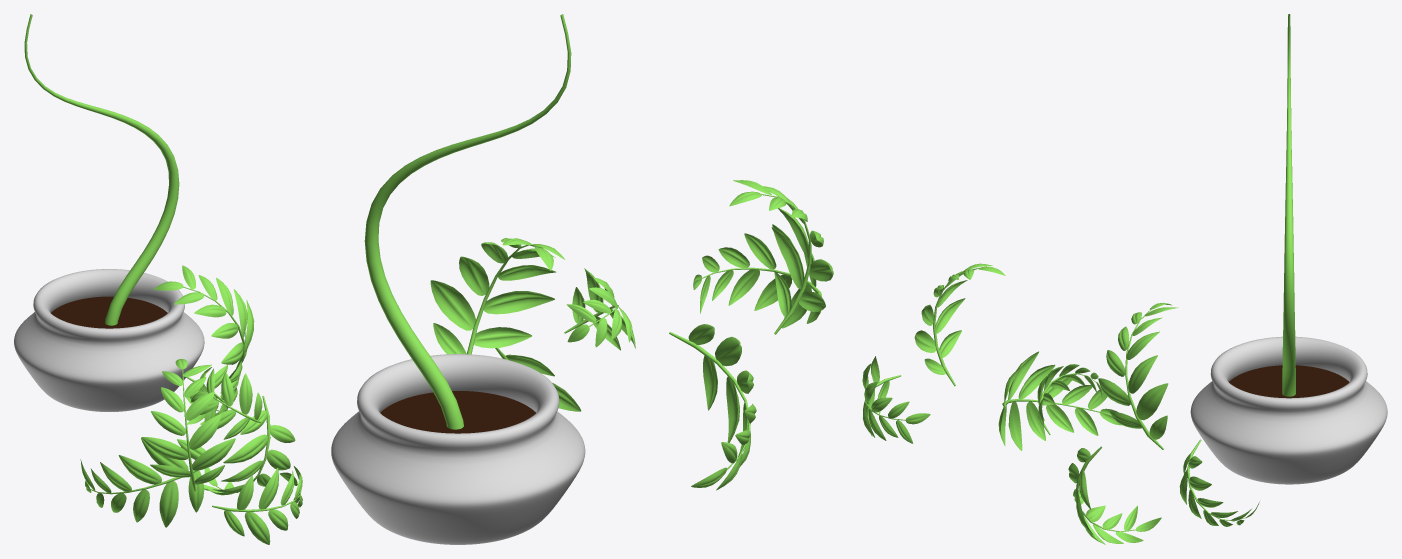
The model's file is 046-growth-2.fbx.
3 views of the same model, side by side, from view 1: azimuth 30°, elevation 25°; view 2: azimuth 150°, elevation 25°; view 3: azimuth 270°, elevation 25° (orthographic). The views are drawn at different scales.
Visible parts, largest first — view 1: Circle, Vert.008, Vert.007, Vert.002, Vert.004, Vert.009, Vert.005, Circle.001, Vert.006, Vert.003; view 2: Circle, Vert.004, Vert.002, Vert.007, Circle.001, Vert.008, Vert.009, Vert.006, Vert.005; view 3: Circle, Vert.007, Vert.004, Vert.002, Circle.001, Vert.008, Vert.005, Vert.009, Vert.003, Vert.006.
Part boxes in pixels (x1=…): Circle: x1=14, y1=269, x2=204, y2=411; Vert.008: x1=142, y1=359, x2=235, y2=491; Vert.007: x1=80, y1=437, x2=205, y2=527; Vert.002: x1=24, y1=14, x2=179, y2=325; Vert.004: x1=153, y1=265, x2=254, y2=382; Vert.009: x1=212, y1=466, x2=302, y2=544; Vert.005: x1=204, y1=395, x2=295, y2=495; Circle.001: x1=51, y1=296, x2=167, y2=328; Vert.006: x1=190, y1=367, x2=262, y2=439; Vert.003: x1=185, y1=365, x2=239, y2=424; Circle: x1=331, y1=354, x2=585, y2=544; Vert.004: x1=430, y1=238, x2=564, y2=354; Vert.002: x1=364, y1=14, x2=571, y2=429; Vert.007: x1=669, y1=324, x2=756, y2=490; Circle.001: x1=380, y1=391, x2=535, y2=433; Vert.008: x1=729, y1=180, x2=833, y2=334; Vert.009: x1=693, y1=224, x2=821, y2=328; Vert.006: x1=564, y1=268, x2=635, y2=350; Vert.005: x1=495, y1=348, x2=581, y2=411; Circle: x1=1190, y1=336, x2=1387, y2=484; Vert.007: x1=998, y1=351, x2=1122, y2=450; Vert.004: x1=1098, y1=302, x2=1178, y2=449; Vert.002: x1=1282, y1=14, x2=1295, y2=396; Circle.001: x1=1229, y1=365, x2=1349, y2=398; Vert.008: x1=914, y1=263, x2=1005, y2=386; Vert.005: x1=1068, y1=446, x2=1161, y2=544; Vert.009: x1=862, y1=356, x2=930, y2=443; Vert.003: x1=1179, y1=439, x2=1259, y2=526; Vert.006: x1=1037, y1=364, x2=1102, y2=435.
Size of the model in its own units: 372 by 738 by 754.
